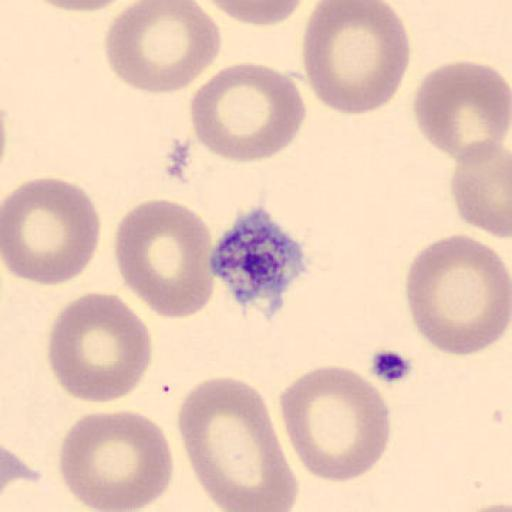Platelet: (205, 206, 313, 316)
RBC: (178, 375, 298, 512), (403, 232, 511, 359), (278, 364, 392, 484), (112, 198, 215, 321), (302, 1, 412, 116), (188, 61, 308, 165), (57, 407, 174, 512), (47, 290, 154, 404), (103, 0, 223, 96), (2, 176, 102, 287), (412, 59, 511, 162), (449, 137, 512, 238), (194, 0, 308, 27), (25, 0, 134, 13), (462, 500, 512, 512)
